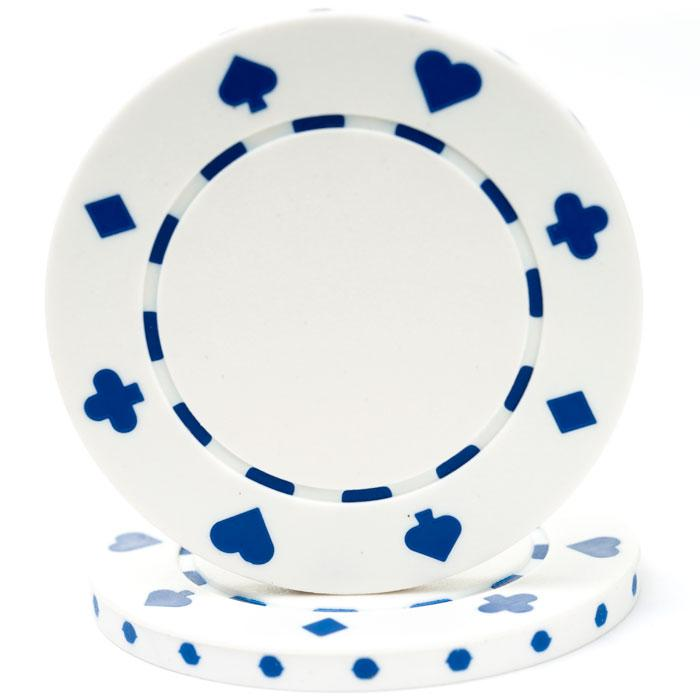chip-white: (46, 15, 640, 593), (93, 520, 640, 690)
